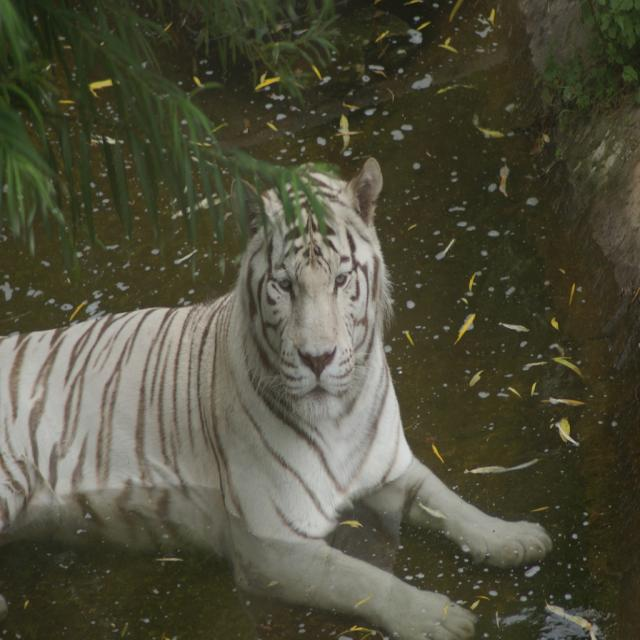Tiger: (0, 150, 552, 639)
